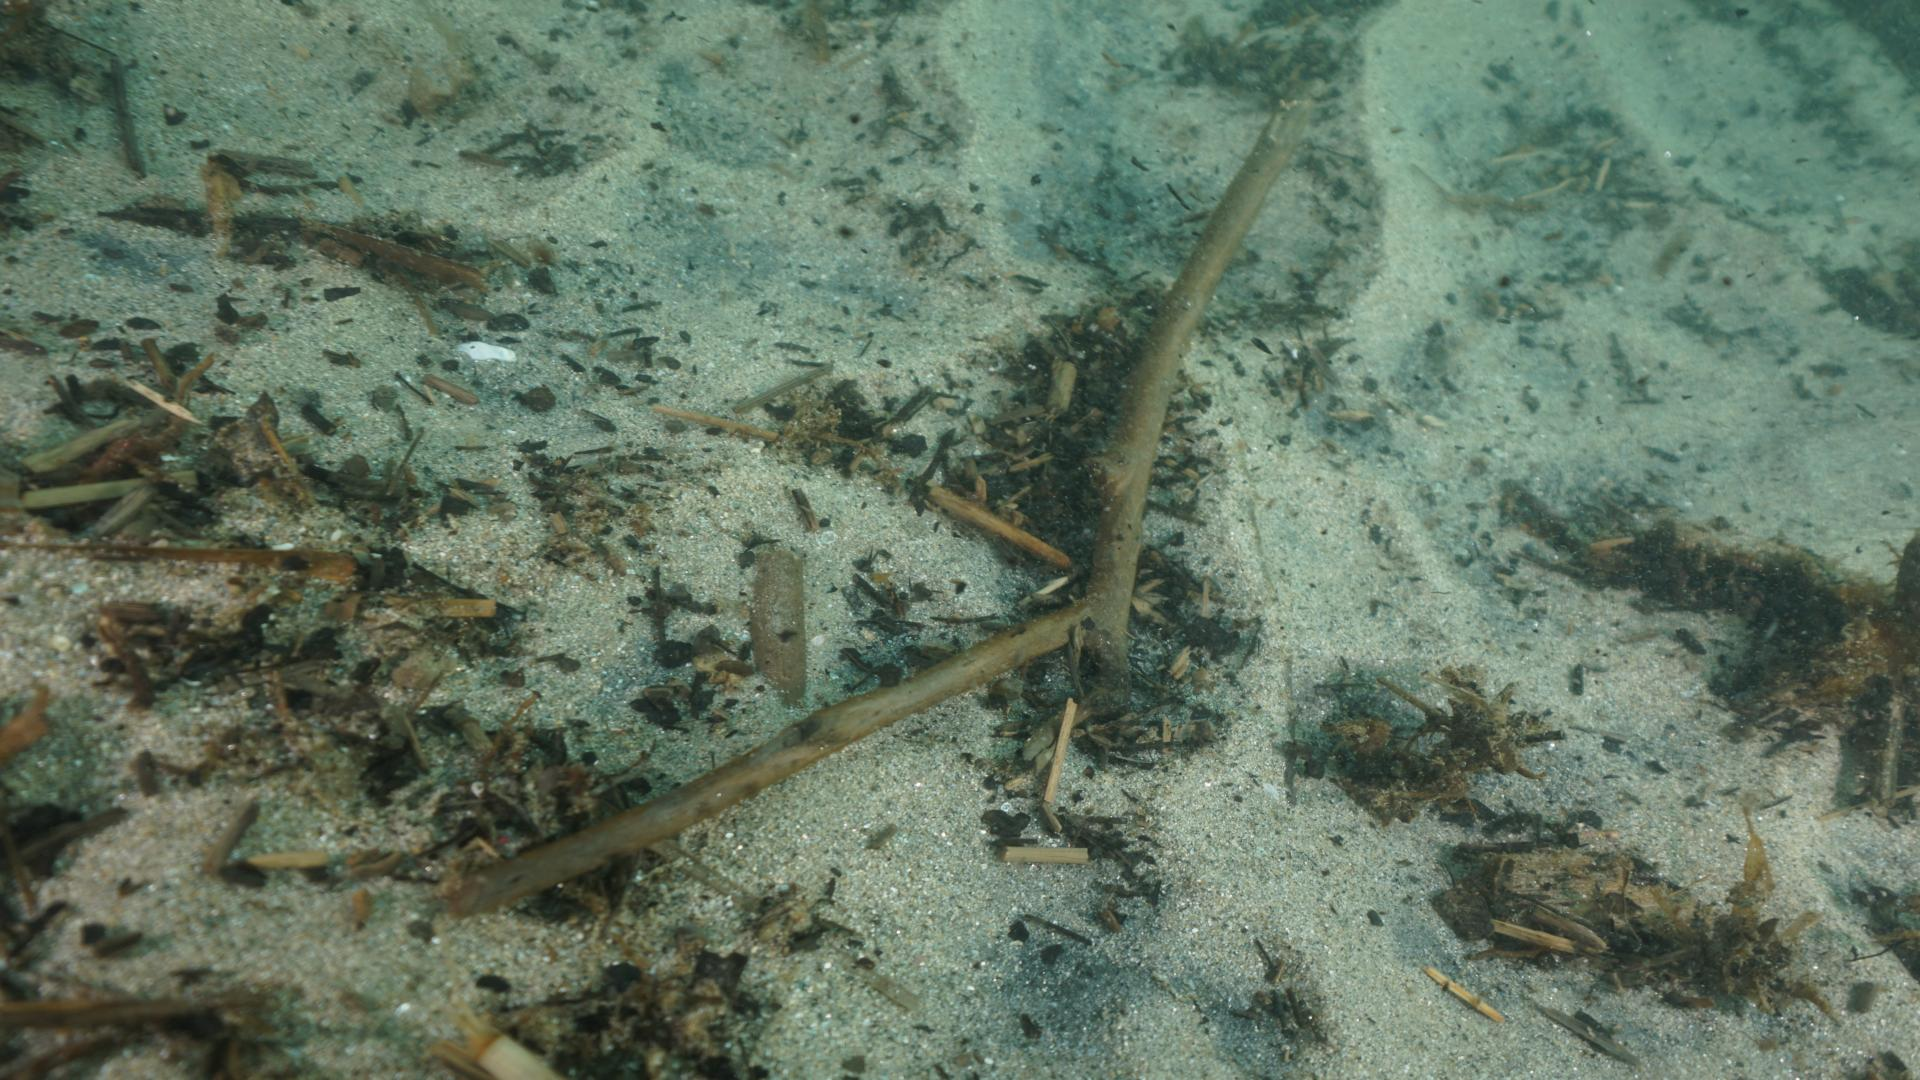wood: (422, 98, 1312, 919)
